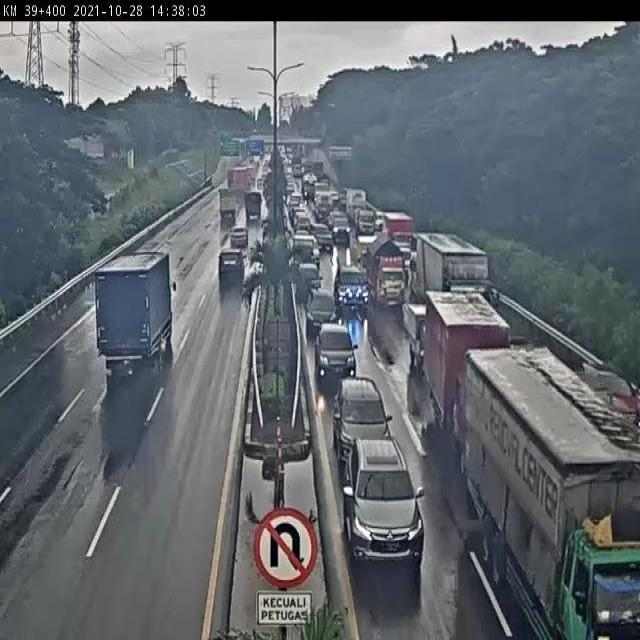big truck: (463, 344, 640, 640)
car: (81, 232, 182, 380), (340, 436, 433, 569), (577, 331, 640, 468), (327, 367, 395, 461), (313, 326, 365, 390), (330, 262, 372, 318), (307, 285, 344, 339), (217, 239, 251, 285), (291, 241, 326, 279), (297, 263, 331, 301), (334, 215, 355, 249), (229, 220, 258, 244)
small truck: (427, 287, 512, 440), (416, 231, 511, 332), (406, 303, 451, 376), (369, 239, 409, 321), (370, 237, 411, 311), (212, 185, 249, 227), (243, 190, 272, 222)
